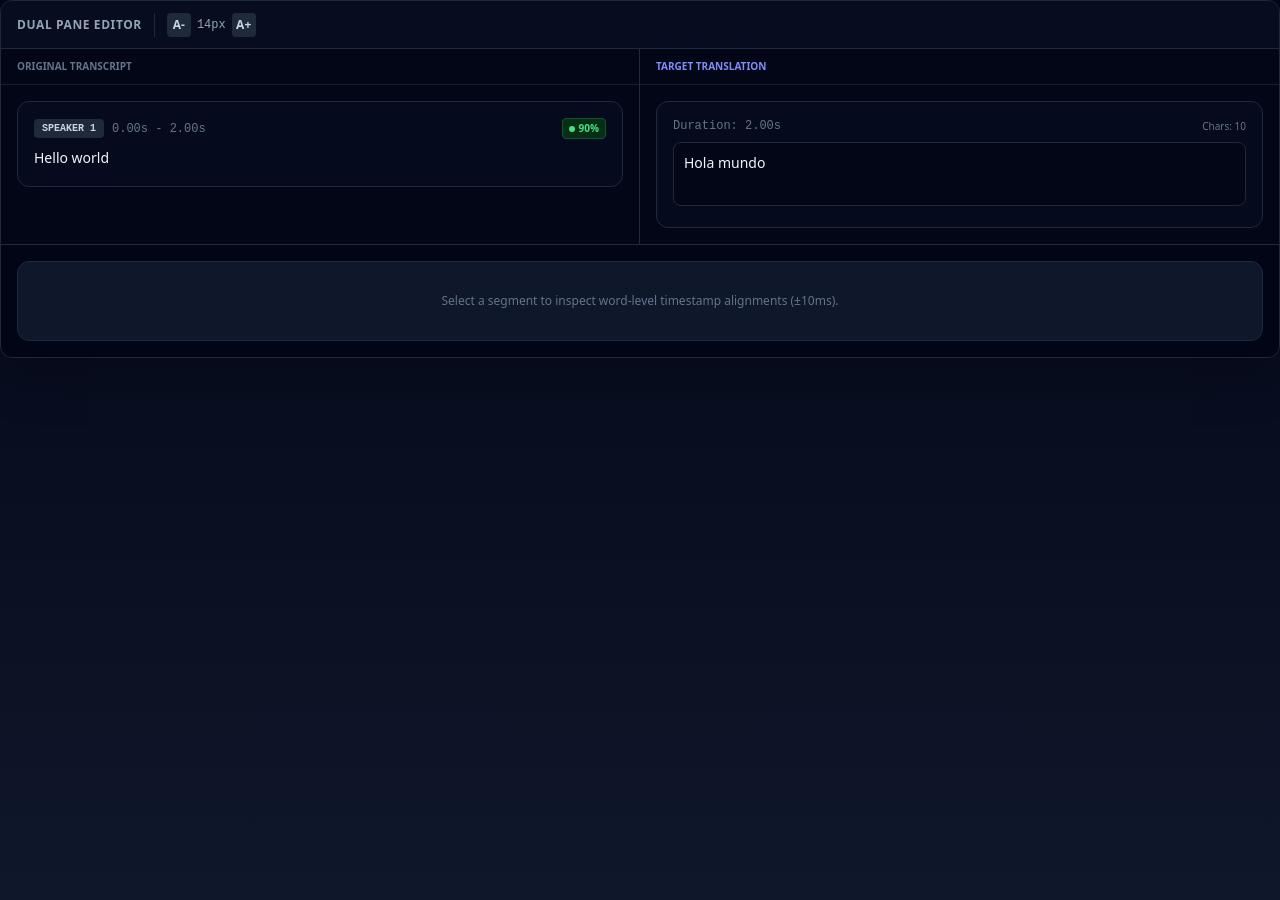
TranscriptEditor › cancels a pending manual override
Step 1. Click the text "Hello world" → (72, 158), box top-left (34, 148), bottom-right (109, 167)
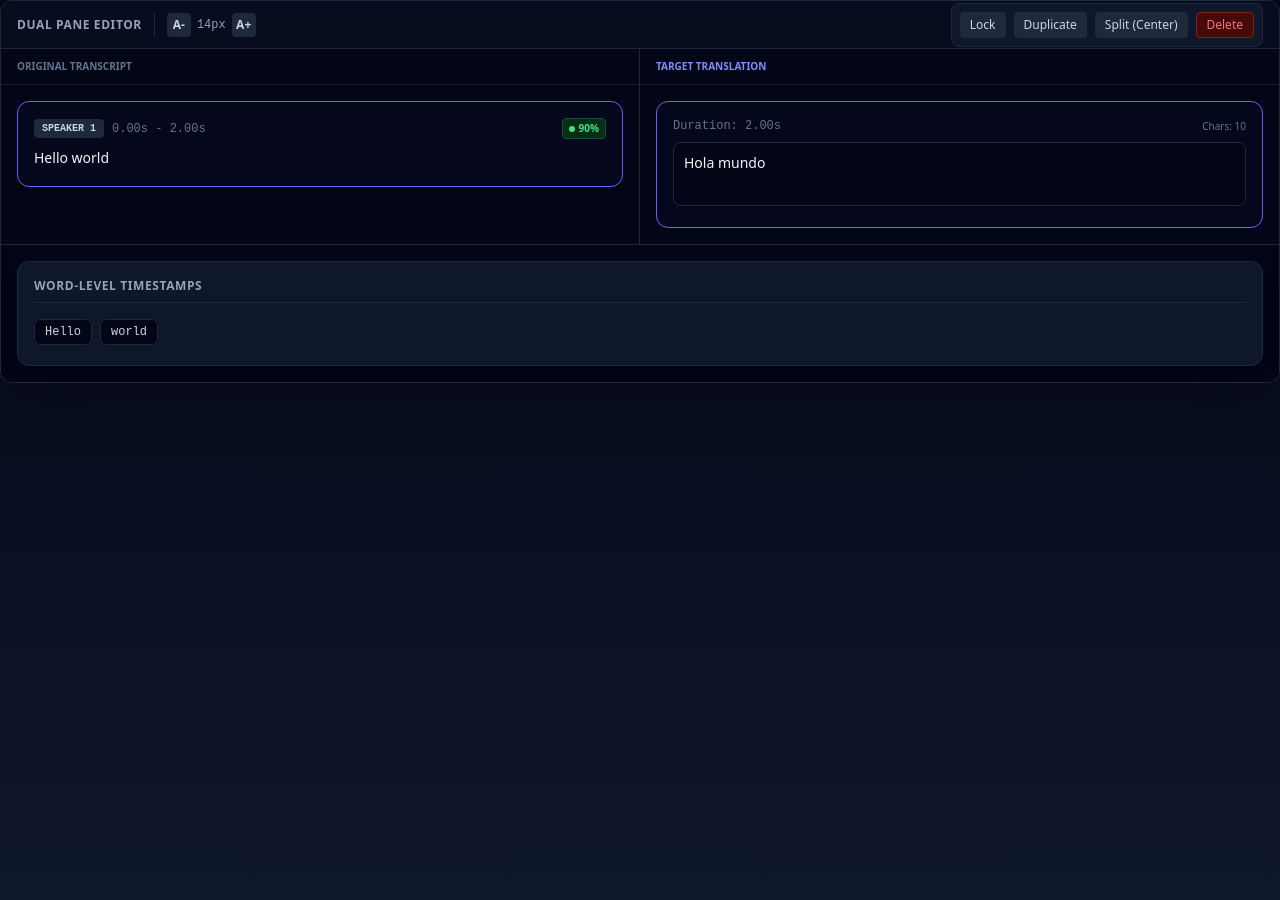
Step 2. Type " changed" into the text box → (960, 174), box top-left (673, 142), bottom-right (1246, 206)
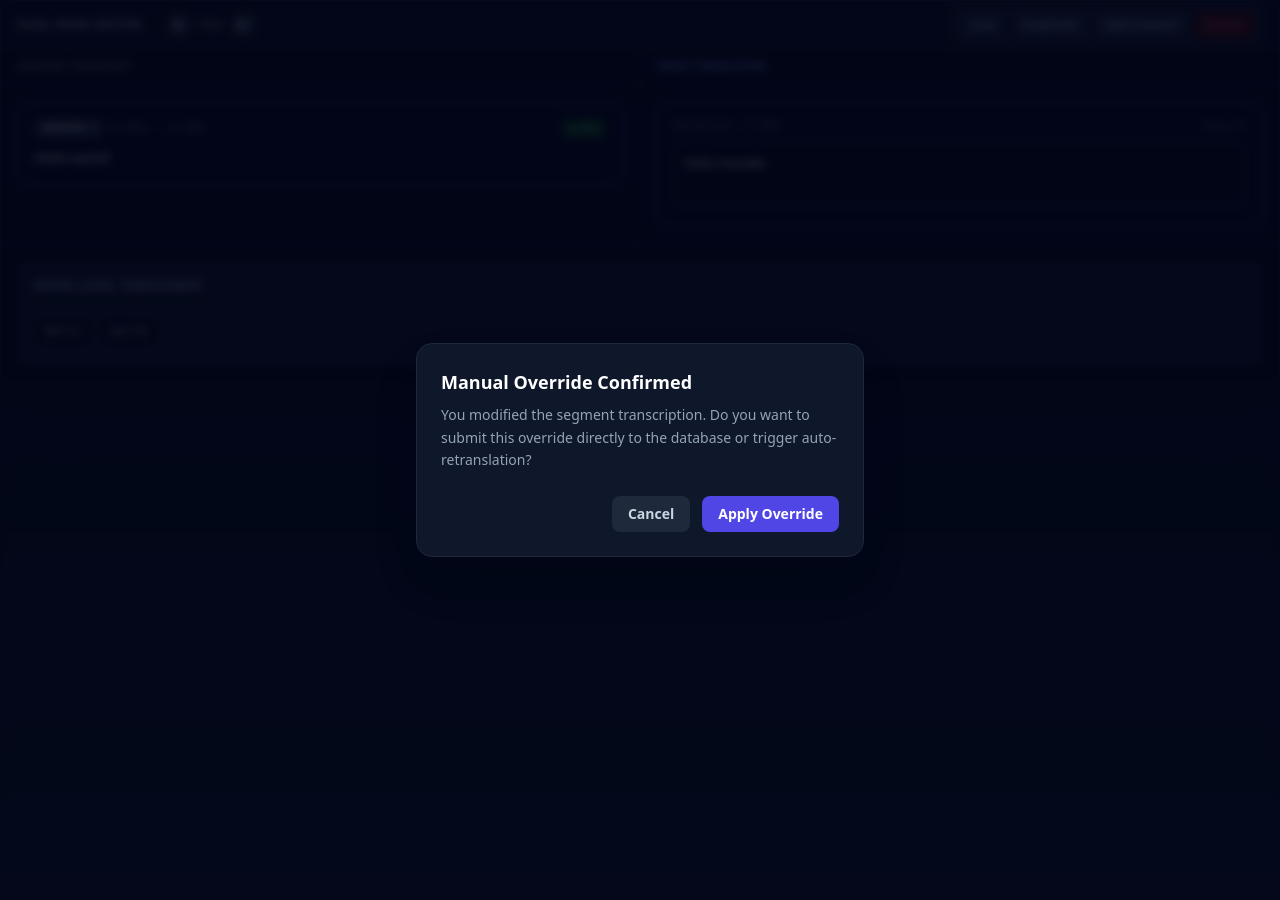
Step 3. Click the button "Cancel" → (651, 514), box top-left (612, 496), bottom-right (690, 532)
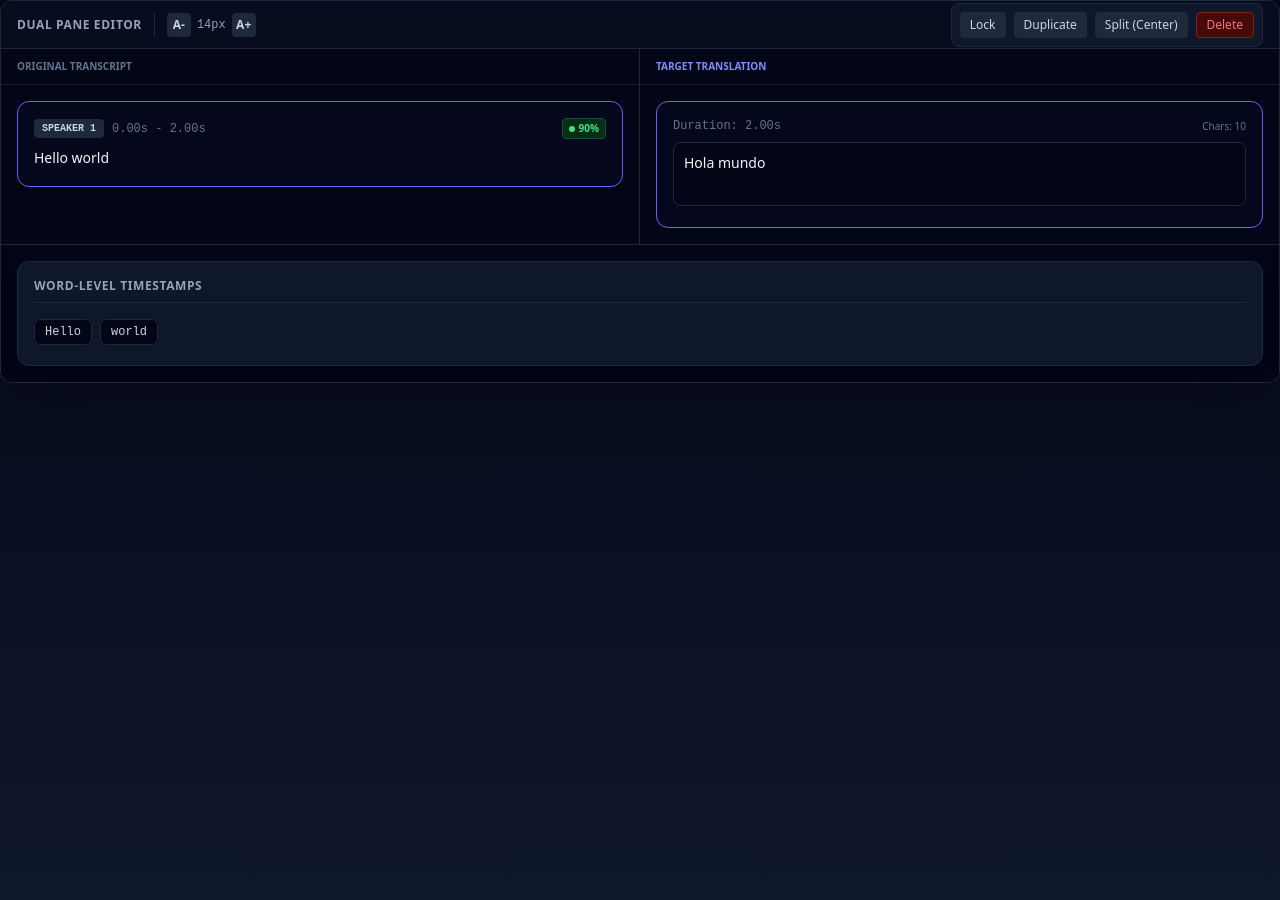
Now the heading "Manual Override Confirmed" is gone
